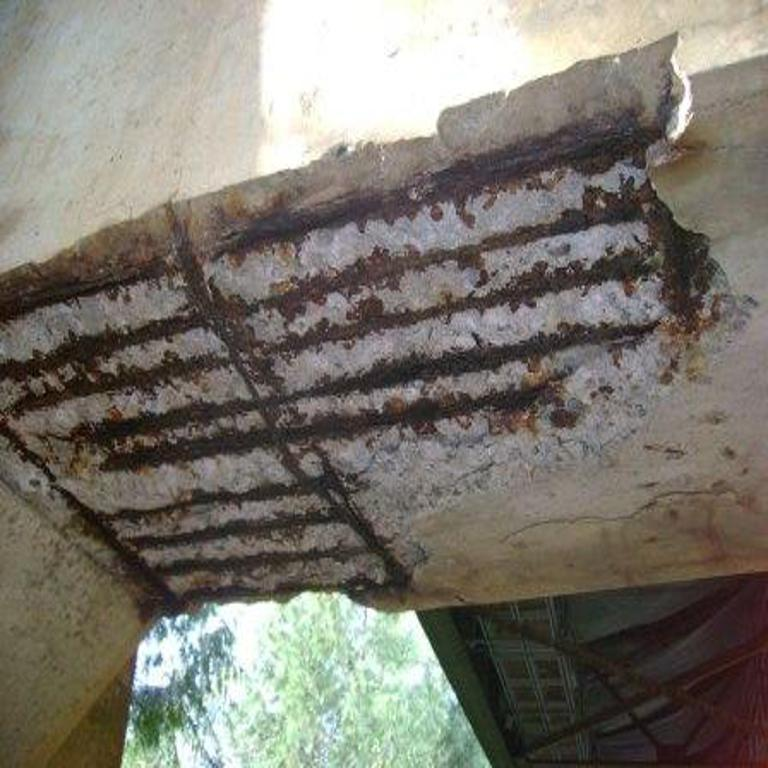spalling: (0, 36, 714, 611)
